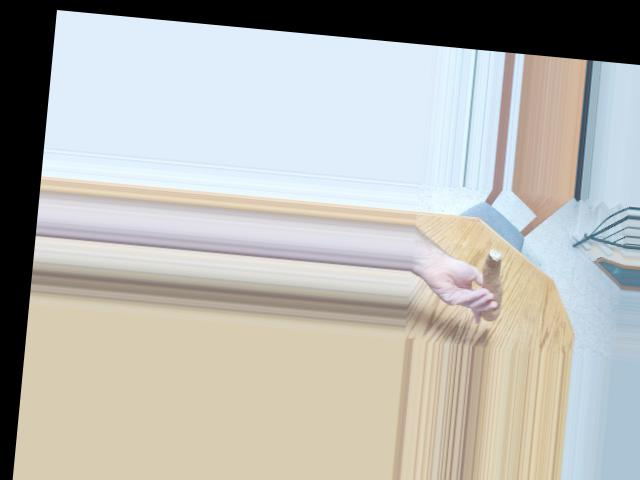sweet_potato: (480, 256, 512, 317)
